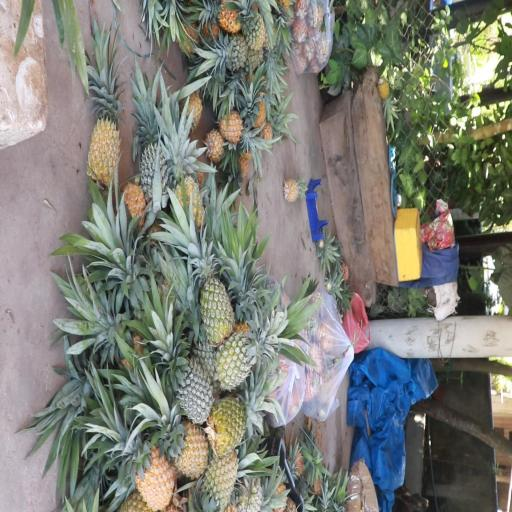------------------------------: (216, 317, 286, 390), (186, 239, 237, 337), (210, 379, 278, 452)
Pineapple - v8 v1: (114, 425, 176, 508), (86, 52, 120, 190), (164, 138, 208, 233), (156, 403, 210, 478), (200, 450, 242, 512), (217, 103, 267, 154)
